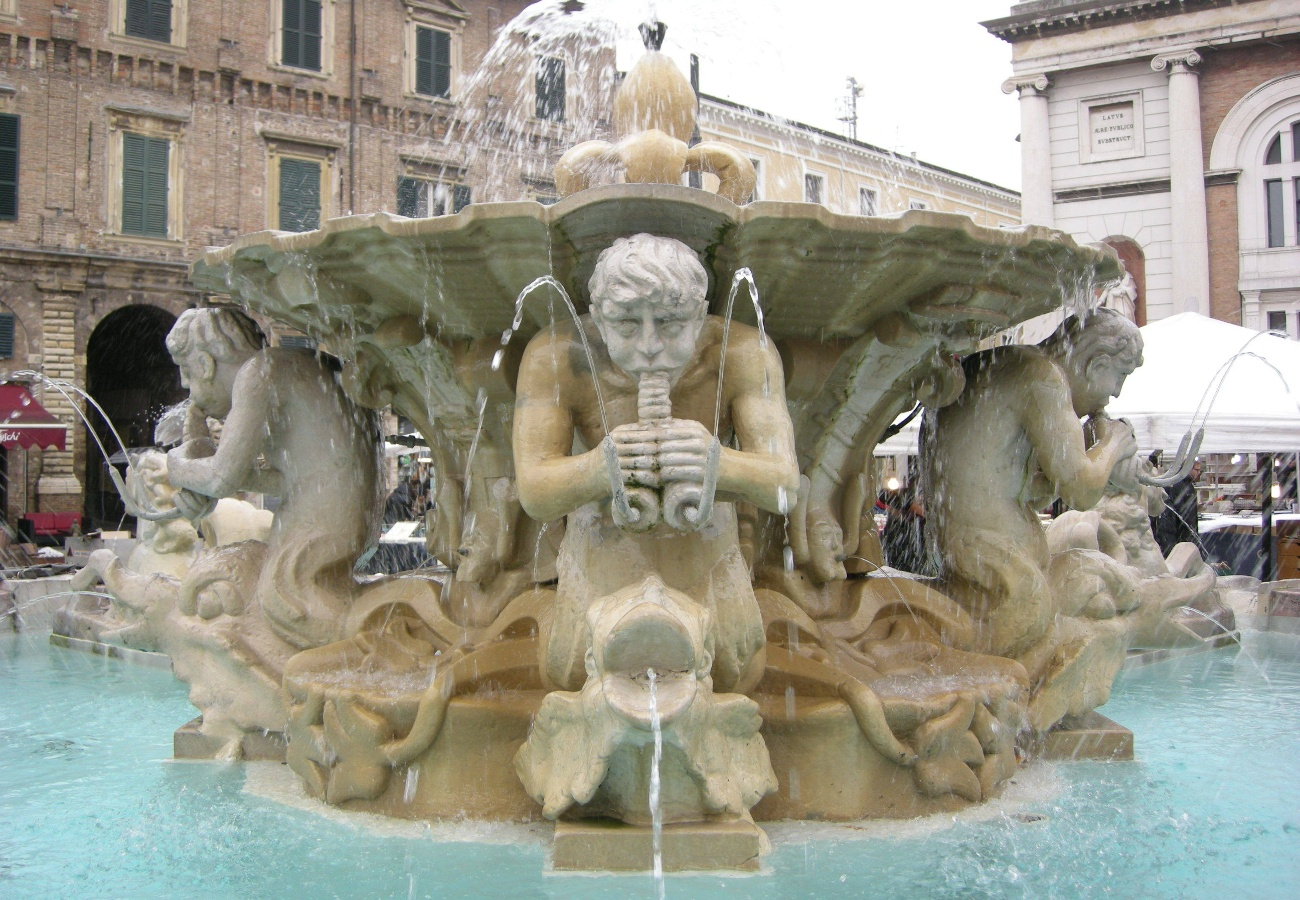Fontana Piazza del Popolo: (167, 192, 1146, 882)
